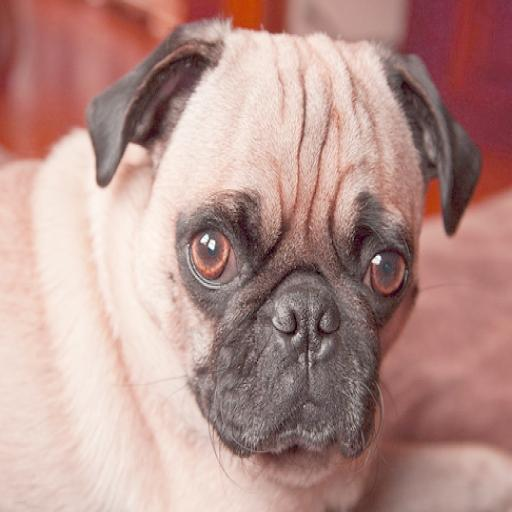dog_face: (95, 21, 479, 478)
